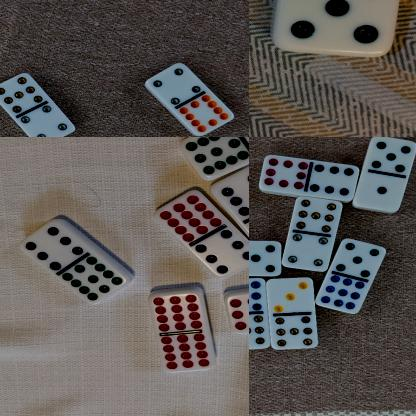pip-1: (355, 171, 406, 213)
pip-10: (180, 96, 234, 136)
pip-11: (62, 257, 127, 305), (181, 137, 249, 178)
pip-12: (159, 190, 223, 243), (150, 292, 204, 333), (159, 334, 217, 372)
pip-3: (268, 278, 318, 314)
pip-4: (146, 64, 202, 106), (21, 104, 77, 137), (284, 233, 330, 273)
pip-5: (273, 0, 396, 56), (336, 239, 388, 278), (370, 137, 416, 174), (249, 240, 281, 276)
pip-6: (18, 221, 83, 270), (196, 231, 249, 280), (310, 159, 360, 202), (212, 170, 249, 216)
pip-7: (289, 198, 343, 233), (0, 72, 43, 114), (272, 316, 320, 351), (249, 313, 270, 351)
pip-8: (260, 156, 310, 192), (227, 291, 249, 335)
pip-9: (316, 274, 368, 316), (249, 278, 267, 313)
